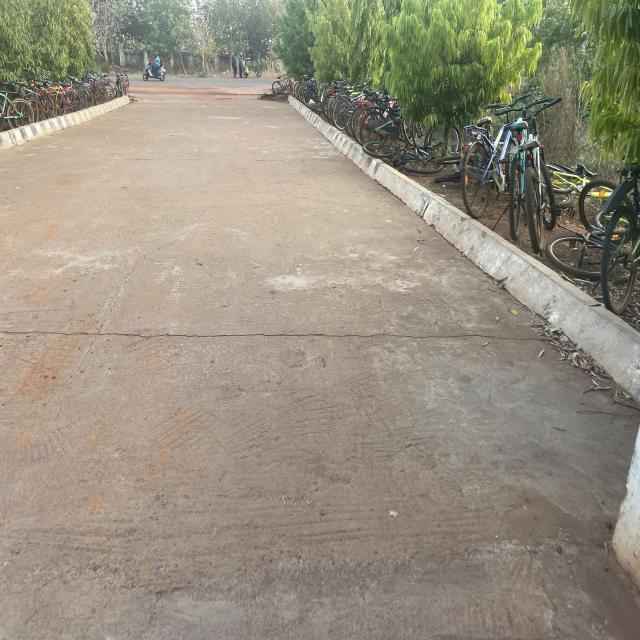D11: (51, 317, 526, 359)
